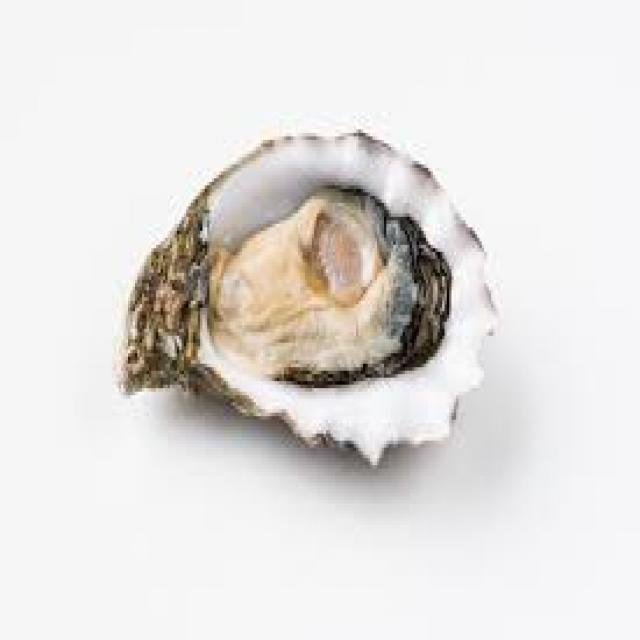Oyster-Open: (125, 131, 496, 464)
